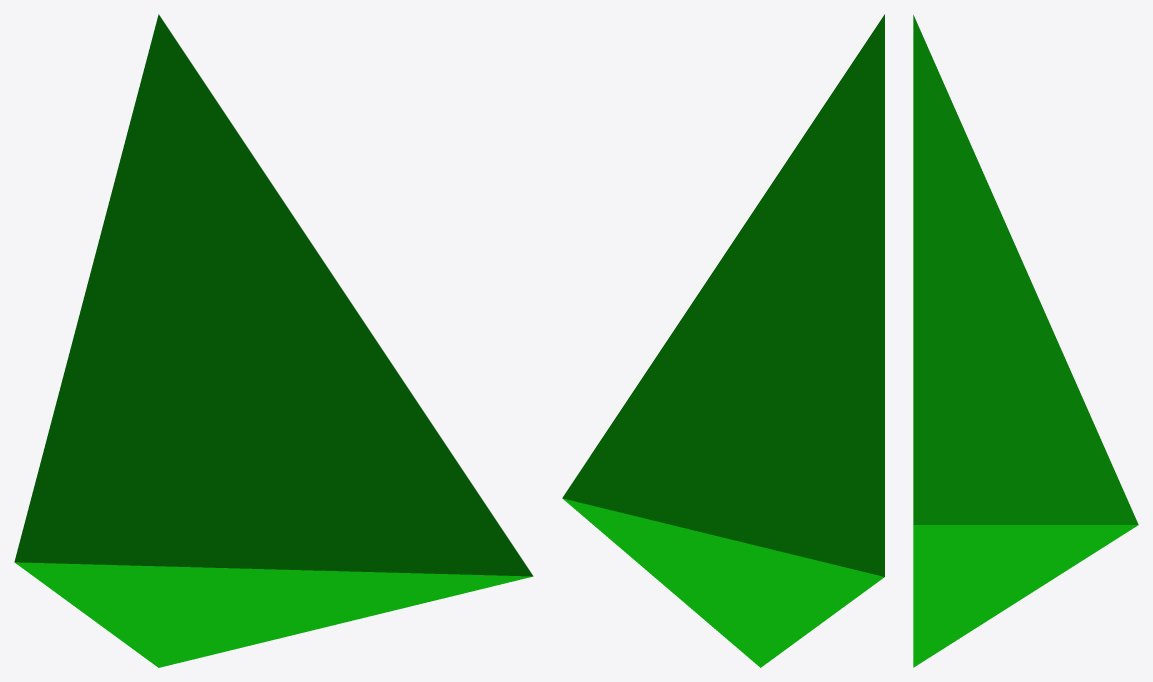
File: uv-rotation.glb
The picture shows the model from 3 angles, left to right: view 1: azimuth 30°, elevation 25°; view 2: azimuth 150°, elevation 25°; view 3: azimuth 270°, elevation 25°; orthographic projection. The views are drawn at different scales.
Size of the model in its own units: 0.06 by 0.1 by 0.04.
1 material, 1 textured.
